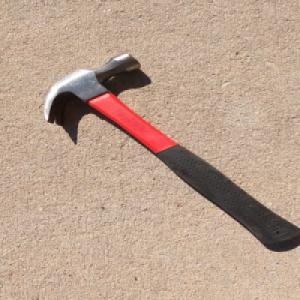Hammer: (39, 51, 300, 246)
